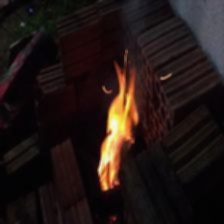fire: (96, 57, 143, 202)
